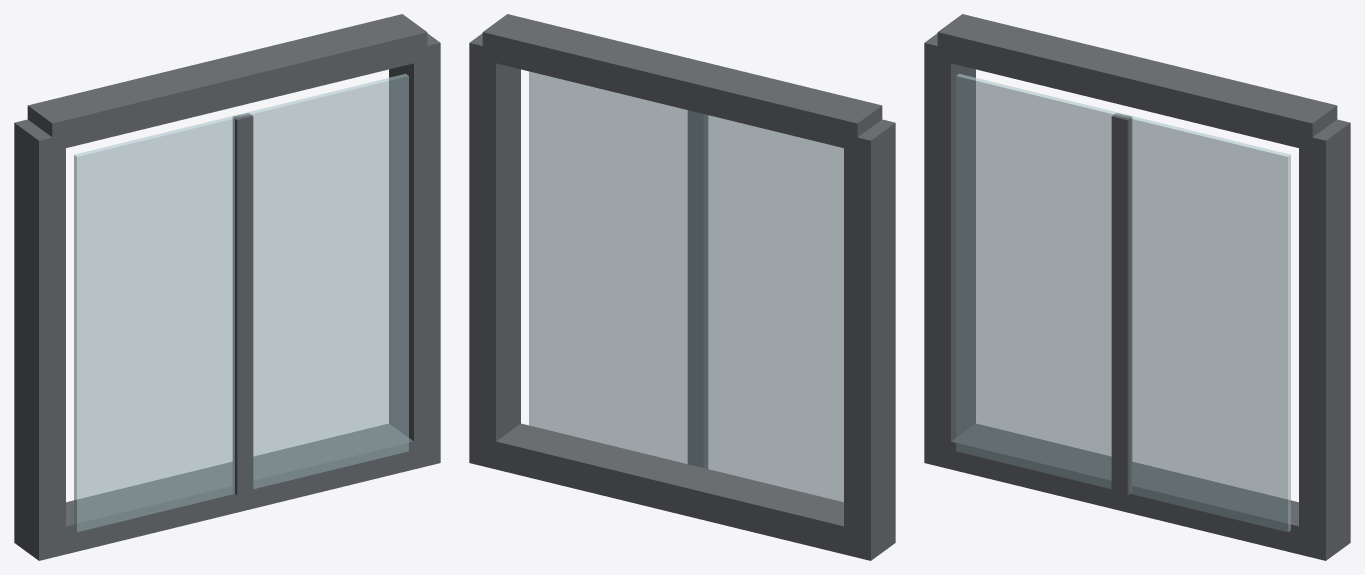
Rendered from window_bay_01.glb.
3 renders of one model, left to right at view 1: azimuth 30°, elevation 25°; view 2: azimuth 150°, elevation 25°; view 3: azimuth 330°, elevation 25°, orthographic.
Parts seen in each view (by area): view 1: glass, side-0.7, side0.7, top, frame, mullion; view 2: glass, side-0.7, side0.7, top, frame, mullion; view 3: glass, side0.7, side-0.7, top, frame, mullion.
Part boxes in pixels (x1=…): glass: x1=74, y1=74, x2=408, y2=531; side-0.7: x1=14, y1=119, x2=65, y2=560; side0.7: x1=389, y1=33, x2=440, y2=468; top: x1=27, y1=14, x2=427, y2=149; frame: x1=52, y1=424, x2=427, y2=554; mullion: x1=233, y1=113, x2=253, y2=495; glass: x1=529, y1=71, x2=843, y2=501; side-0.7: x1=844, y1=119, x2=895, y2=560; side0.7: x1=469, y1=33, x2=520, y2=467; top: x1=482, y1=14, x2=882, y2=150; frame: x1=482, y1=423, x2=857, y2=557; mullion: x1=688, y1=110, x2=707, y2=468; glass: x1=956, y1=74, x2=1290, y2=531; side0.7: x1=1299, y1=119, x2=1350, y2=560; side-0.7: x1=924, y1=33, x2=975, y2=468; top: x1=937, y1=14, x2=1337, y2=148; frame: x1=937, y1=424, x2=1312, y2=557; mullion: x1=1111, y1=113, x2=1131, y2=495.
Bounding box in the file's own units: 1.5 × 1.55 × 0.195.
